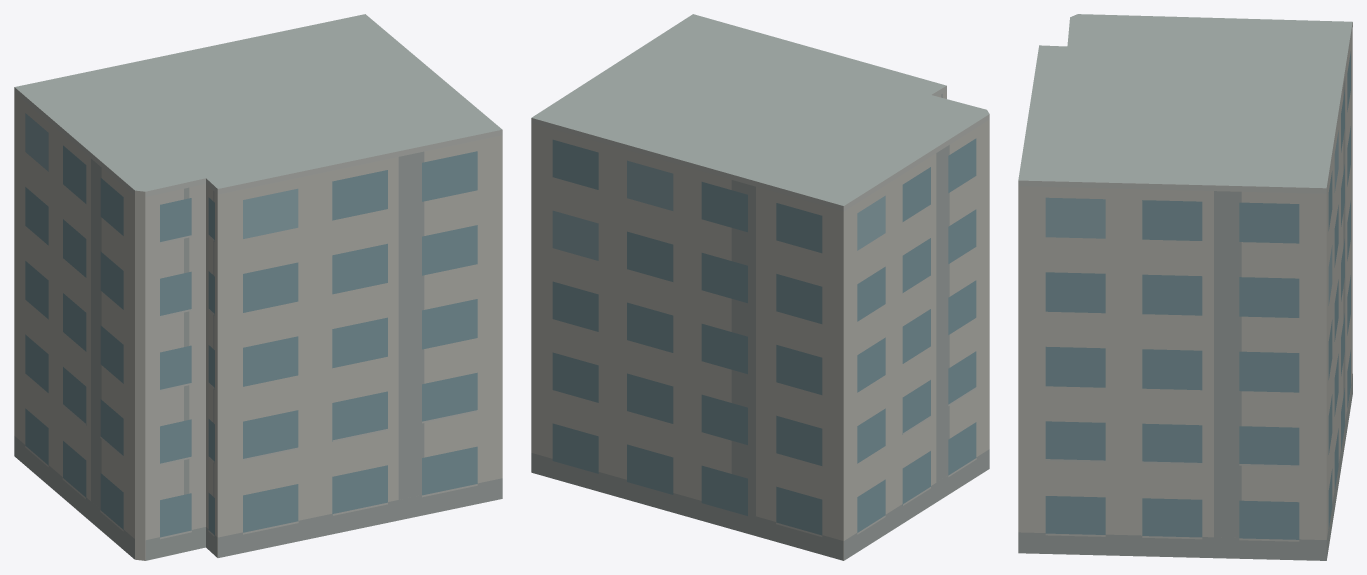
The model's file is survey-upis-32920640.glb.
The picture shows the model from 3 angles, left to right: view 1: azimuth 30°, elevation 25°; view 2: azimuth 150°, elevation 25°; view 3: azimuth 270°, elevation 25°; orthographic projection. The views are drawn at different scales.
Parts seen in each view (by area): view 1: survey-upis-32920640.tmp; view 2: survey-upis-32920640.tmp; view 3: survey-upis-32920640.tmp.
Boxes of the visible parts, x1=… form: survey-upis-32920640.tmp: x1=14, y1=14, x2=502, y2=560; survey-upis-32920640.tmp: x1=531, y1=14, x2=989, y2=560; survey-upis-32920640.tmp: x1=1018, y1=14, x2=1352, y2=560.
Size of the model in its own units: 16.1 by 16.05 by 13.06.
